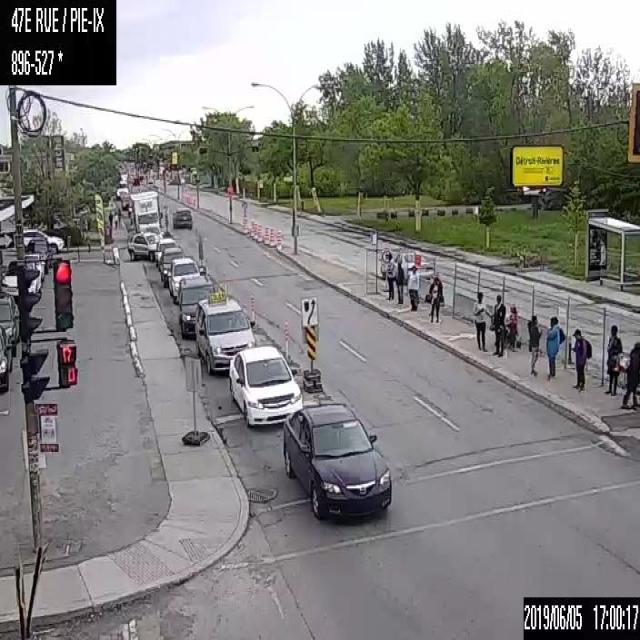construction: (282, 319, 288, 361), (249, 297, 255, 319), (242, 216, 248, 232), (252, 222, 258, 238), (268, 228, 274, 244), (257, 224, 262, 240), (277, 229, 282, 244), (264, 227, 269, 242), (250, 220, 254, 236), (225, 278, 229, 294)
pedestrian: (569, 326, 592, 390), (603, 323, 623, 396), (621, 339, 639, 408), (545, 314, 563, 378), (471, 289, 488, 352), (422, 274, 444, 322), (526, 314, 542, 378), (491, 292, 506, 359), (382, 252, 396, 301), (407, 265, 420, 311), (506, 304, 518, 350), (395, 258, 405, 304), (113, 211, 117, 228), (108, 208, 112, 224), (118, 207, 120, 225)
vehicle: (282, 402, 392, 518), (229, 342, 303, 426), (193, 294, 256, 371), (178, 275, 218, 338), (170, 256, 206, 304), (0, 258, 42, 298), (128, 189, 163, 236), (24, 225, 64, 255), (0, 297, 23, 348), (126, 229, 162, 260), (162, 243, 185, 286), (24, 237, 51, 271), (0, 325, 12, 387), (171, 206, 192, 228), (116, 180, 128, 198), (120, 192, 128, 210)
